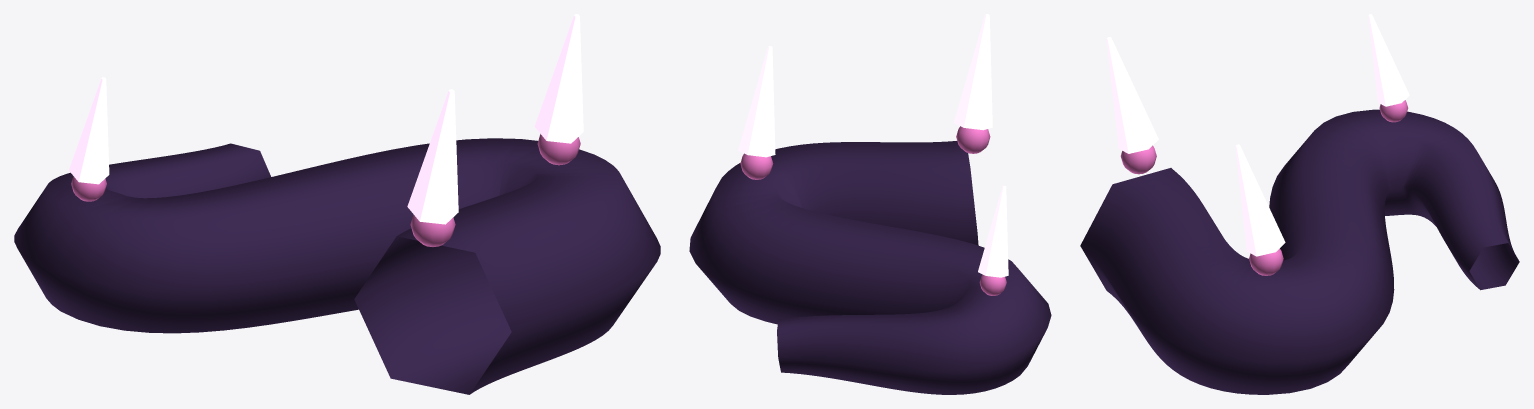
The model's file is SM_Keeper_Apep_Body_F11.fbx.
3 renders of one model, left to right at view 1: azimuth 30°, elevation 25°; view 2: azimuth 150°, elevation 25°; view 3: azimuth 270°, elevation 25°, orthographic. The views are drawn at different scales.
Visible parts, largest first — view 1: SM_Keeper_Apep_Body_F11; view 2: SM_Keeper_Apep_Body_F11; view 3: SM_Keeper_Apep_Body_F11.
Boxes of the visible parts, <box> form: SM_Keeper_Apep_Body_F11: <box>14,14,660,394</box>; SM_Keeper_Apep_Body_F11: <box>689,14,1051,394</box>; SM_Keeper_Apep_Body_F11: <box>1080,14,1519,394</box>.
Size of the model in its own units: 7.18 by 4.37 by 6.55.
